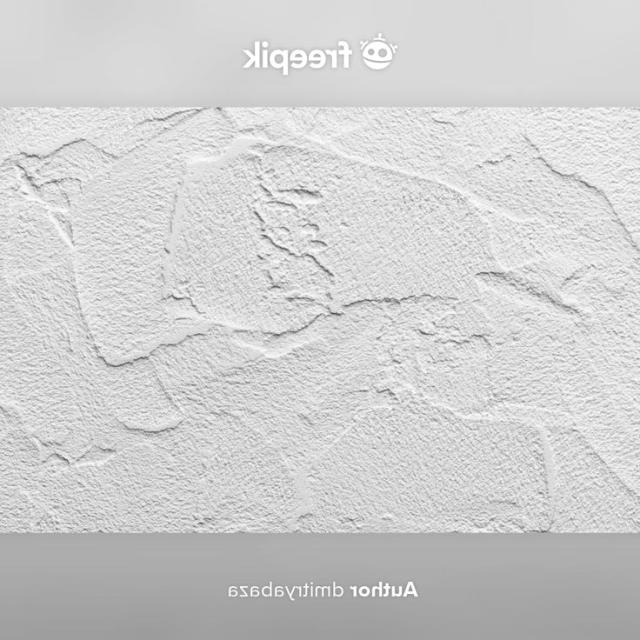trowels marks: (0, 110, 639, 534)
